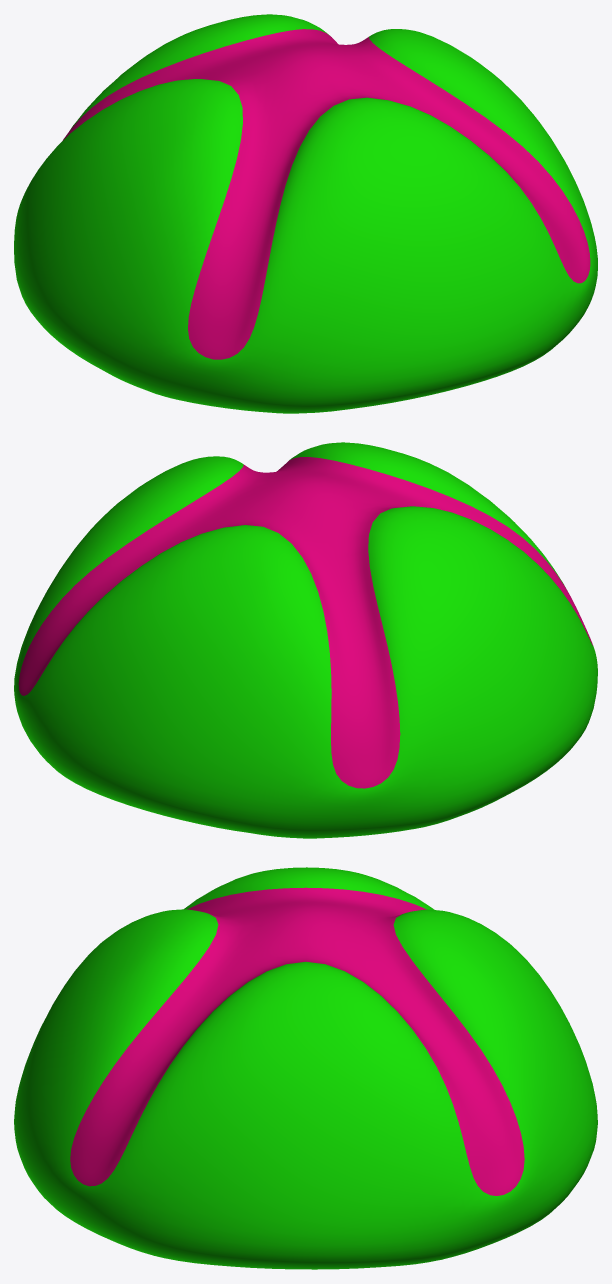
Rendered from x_bread.fbx.
3 renders of one model, top to bottom at view 1: azimuth 30°, elevation 25°; view 2: azimuth 150°, elevation 25°; view 3: azimuth 270°, elevation 25°, orthographic. The views are drawn at different scales.
Visible parts, largest first — view 1: Xpan.001; view 2: Xpan.001; view 3: Xpan.001.
Part boxes in pixels (bbox=[...]): Xpan.001: bbox=[14, 14, 597, 413]; Xpan.001: bbox=[14, 442, 597, 838]; Xpan.001: bbox=[14, 867, 597, 1269].
Size of the model in its own units: 34.39 by 16.51 by 34.39.
